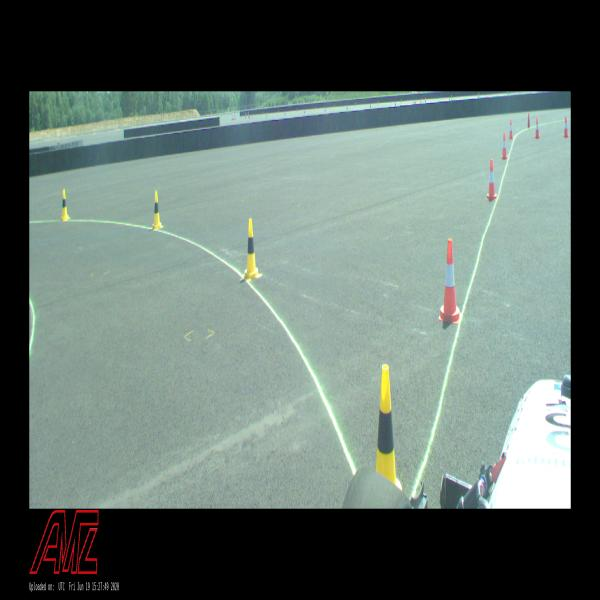orange_cone: (439, 238, 460, 324), (486, 160, 497, 202), (500, 133, 508, 160), (562, 116, 569, 138), (534, 117, 540, 139), (508, 118, 514, 140), (477, 92, 480, 98)
unknown_cone: (527, 112, 530, 129)
yellow_cone: (368, 364, 404, 492), (243, 219, 259, 278), (152, 190, 162, 229), (60, 189, 70, 221)
